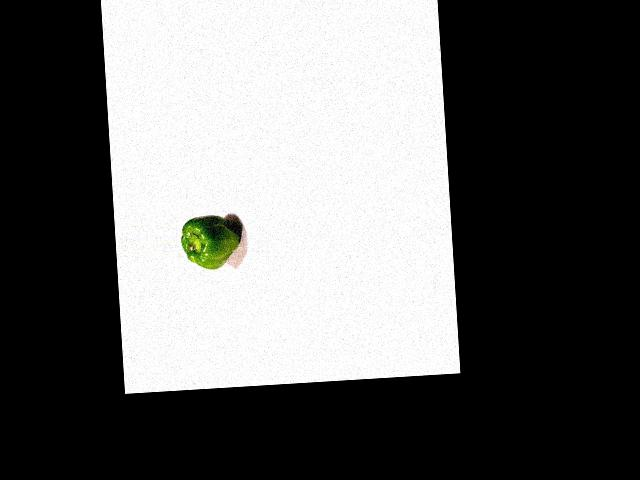bell_pepper: (180, 212, 244, 273)
